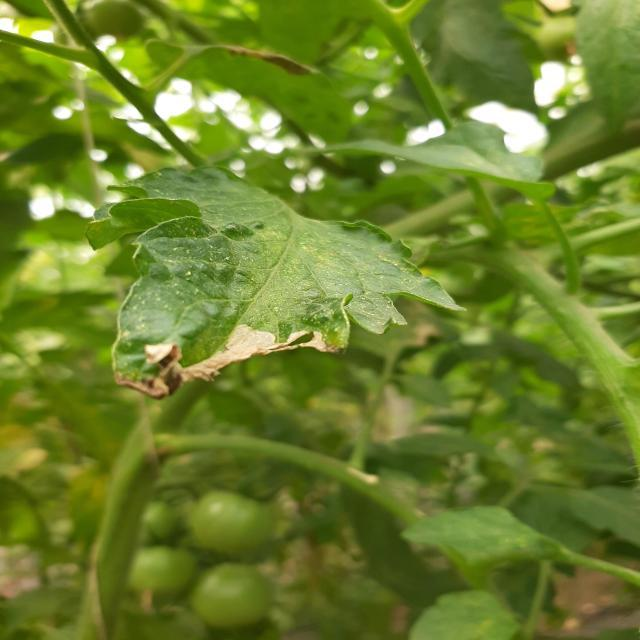Tuta absoluta: (113, 308, 332, 407)
